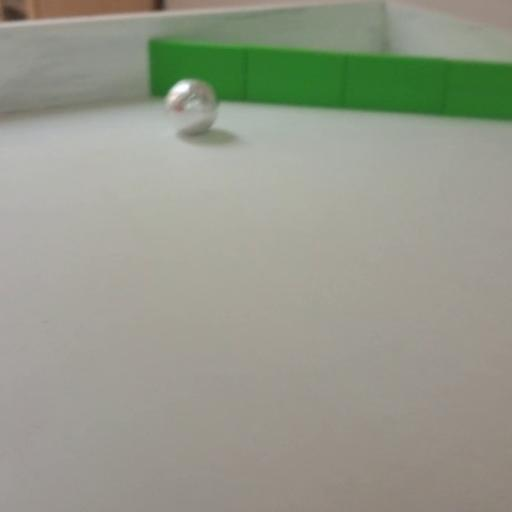alive: (165, 78, 217, 134)
